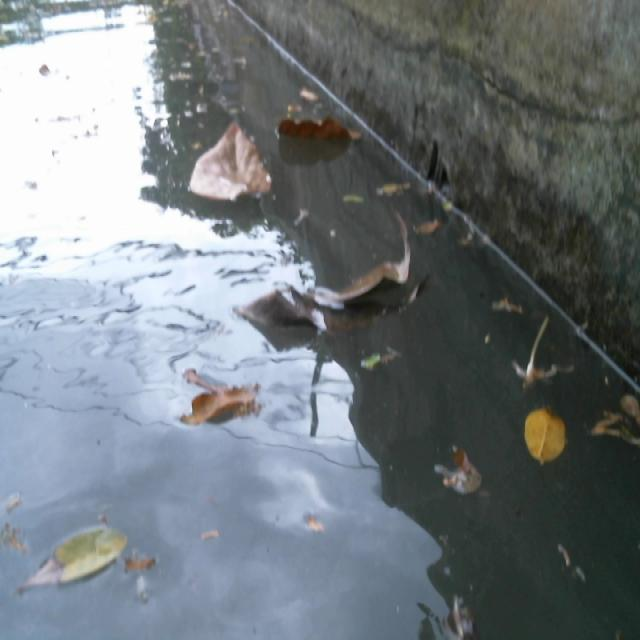Big-leaf: (230, 197, 426, 339), (188, 120, 270, 209), (178, 362, 267, 440), (268, 112, 363, 147)
Small-leaf: (19, 504, 130, 600), (432, 434, 495, 520), (511, 402, 585, 474), (436, 579, 485, 640), (485, 290, 535, 326), (123, 543, 160, 581), (200, 522, 242, 547), (368, 177, 413, 198), (300, 504, 335, 530), (357, 352, 389, 375), (412, 216, 445, 237), (331, 190, 361, 210), (301, 94, 331, 109)
